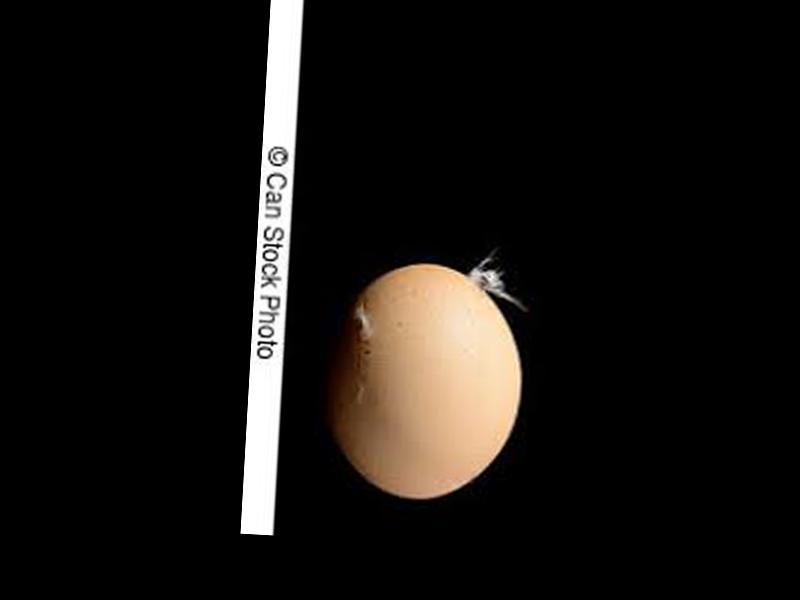Eggs: (319, 258, 526, 504)
